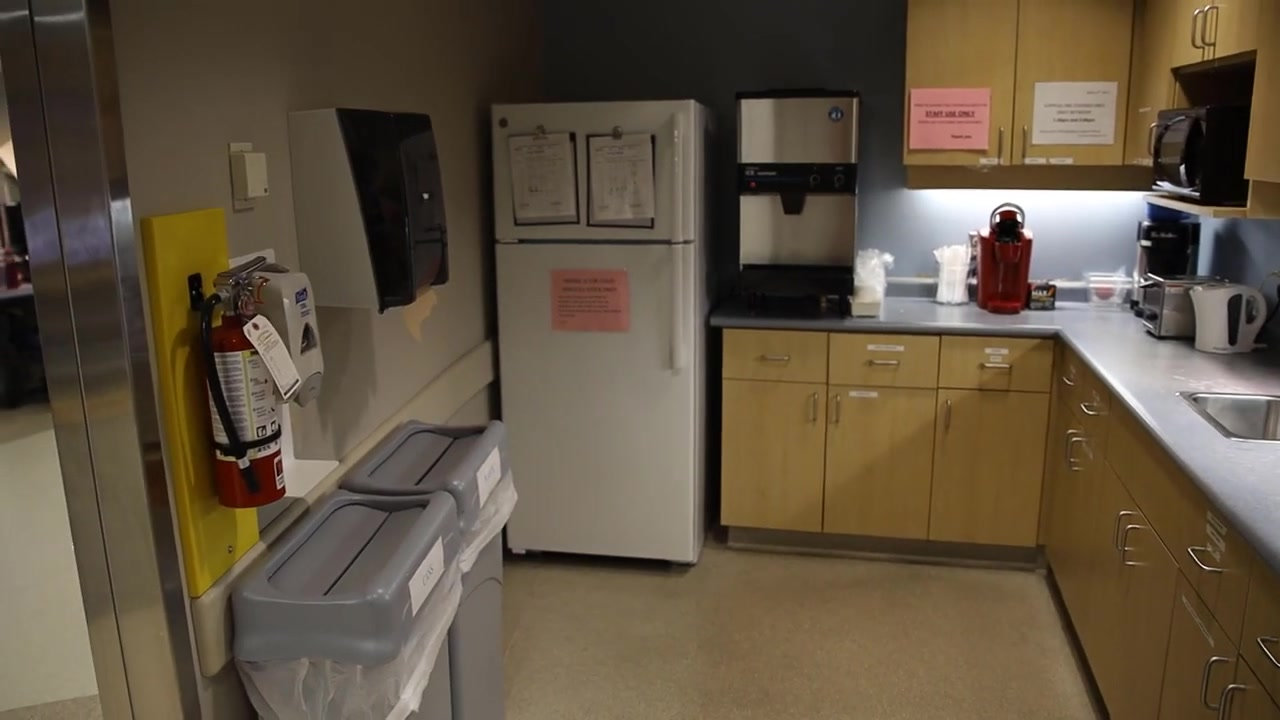cabinet: (905, 3, 1274, 214)
counter: (712, 294, 1280, 720)
countertop: (1064, 295, 1280, 574), (710, 299, 1063, 340)
dispenser: (287, 106, 453, 317), (244, 261, 328, 407)
handle: (1198, 652, 1233, 713), (668, 111, 683, 242), (668, 244, 683, 374), (1191, 1, 1224, 48), (1219, 681, 1253, 720), (1184, 545, 1227, 575), (1111, 509, 1137, 553), (1120, 524, 1146, 567), (1253, 633, 1280, 668), (1066, 435, 1089, 474), (1061, 428, 1085, 464), (755, 351, 793, 367), (865, 355, 903, 371), (978, 360, 1016, 376), (807, 390, 822, 425), (831, 392, 846, 427), (941, 399, 956, 434), (1147, 119, 1160, 157), (996, 125, 1008, 162), (1020, 124, 1032, 161), (1080, 401, 1101, 417), (1062, 376, 1077, 388)
sink: (1176, 387, 1280, 448)
waste_bin: (222, 489, 458, 720), (341, 420, 521, 720)
